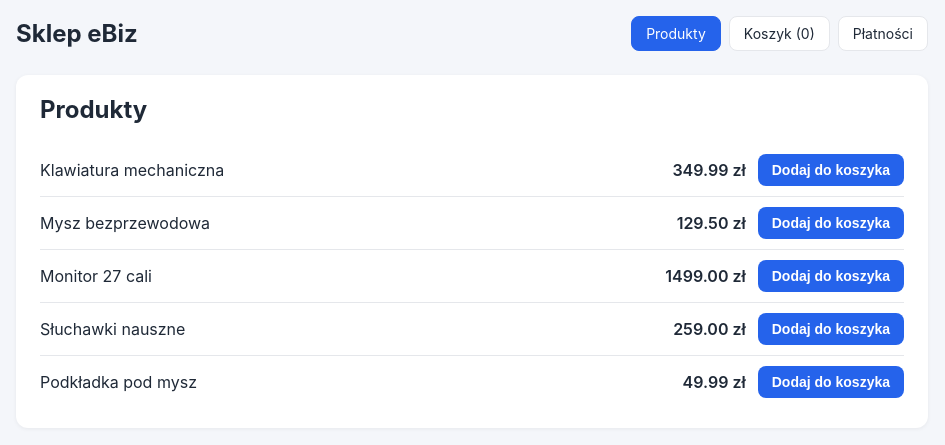
it: 08 - Dodanie produktu do koszyka › po dodaniu produkt pojawia się w koszyku
What coordinates should you click on to do the following:
click the button "Dodaj do koszyka" in the row of "Klawiatura mechaniczna"
I would click on:
 (831, 170)
Its box is [758,154,904,186].
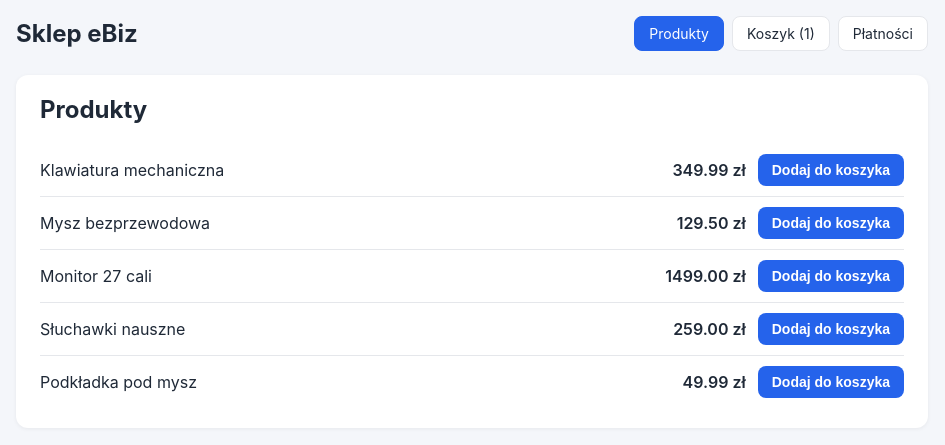
What coordinates should you click on to do the following:
click the link "Koszyk (1)"
I would click on:
 (781, 34)
Its box is [732,16,830,51].
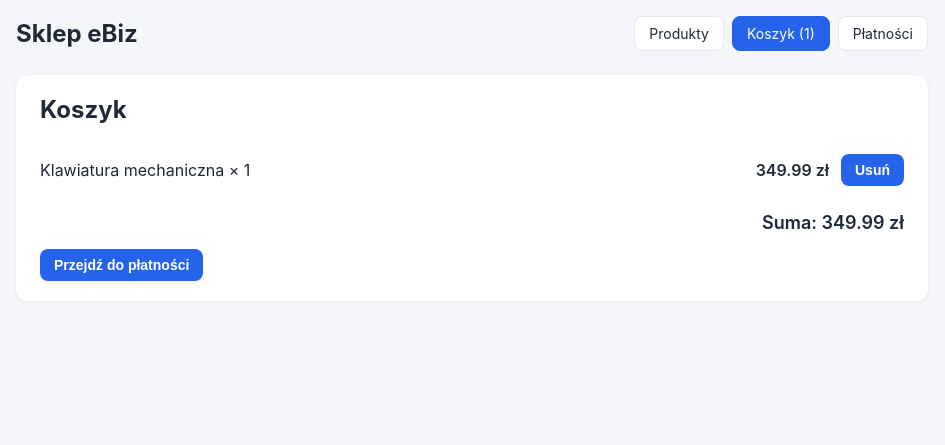
Expected: the list item "Klawiatura mechaniczna" shows "× 1", [40,160,224,180]
Expected: the number of list items is 1, [40,144,904,196]
